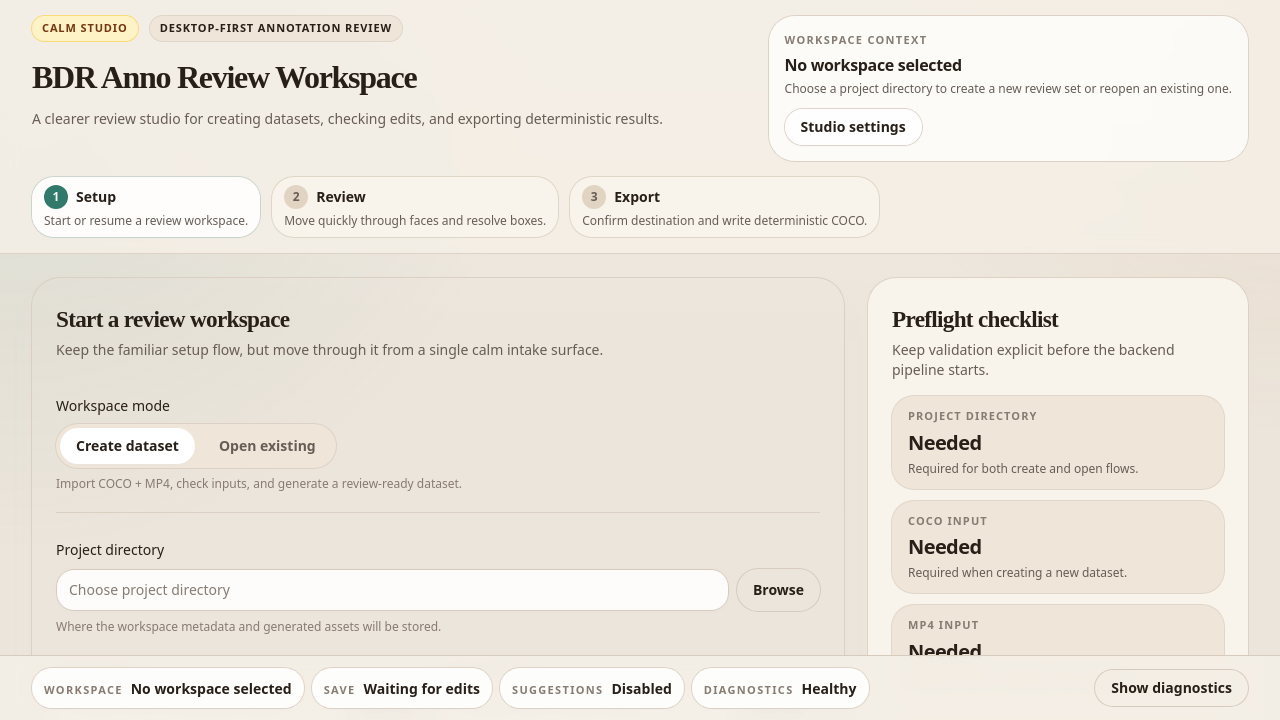
Test: app workflow smoke › opens the diagnostics drawer from the status rail
Click the button "Show diagnostics": (1172, 688) [1095,670,1248,706]
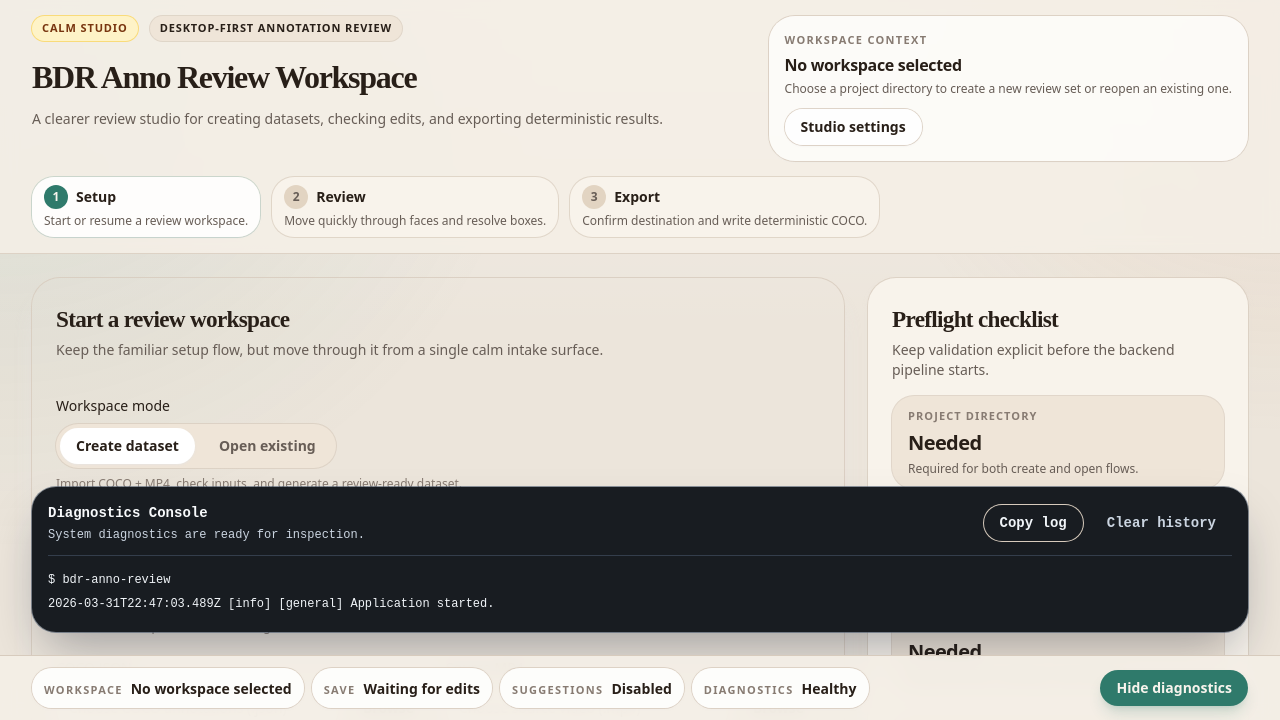
Expected: the text "Diagnostics Console" is shown, [48,505,208,521]
